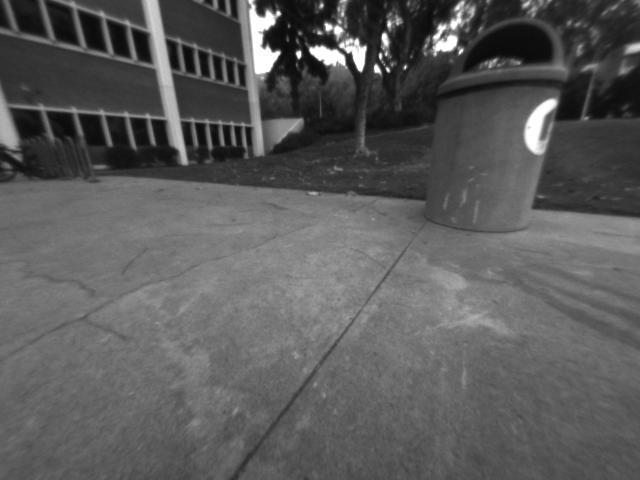trashcan: (412, 2, 583, 261)
